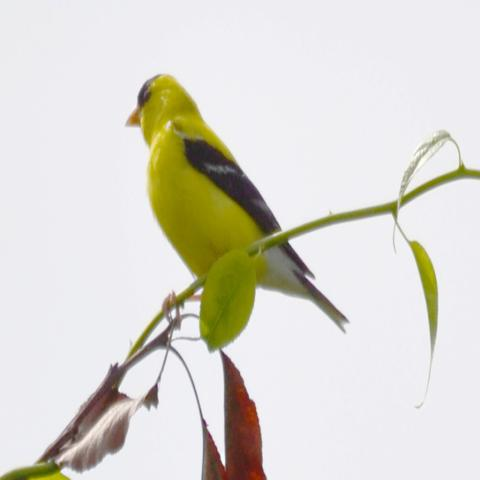bird: (123, 70, 351, 338)
